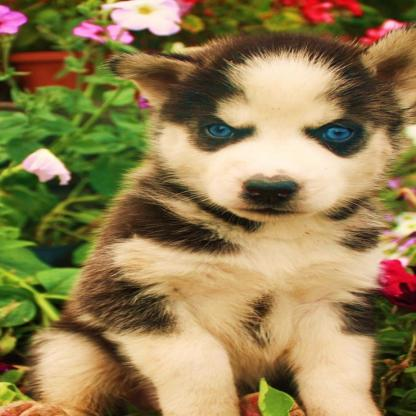dog: (44, 28, 414, 416)
